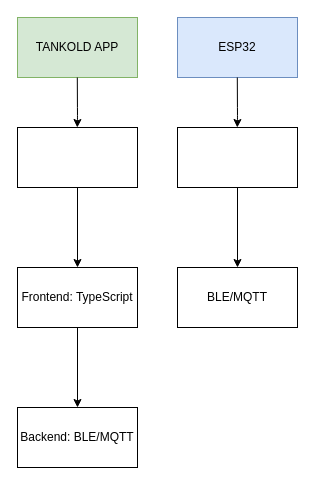
This 315x485 diagram has some shape labels left out. Here are the shapes that lost their labels. From the top down, the centre of each, then its label:
At point (77, 157): "React Native".
At point (237, 157): "Micropython".
